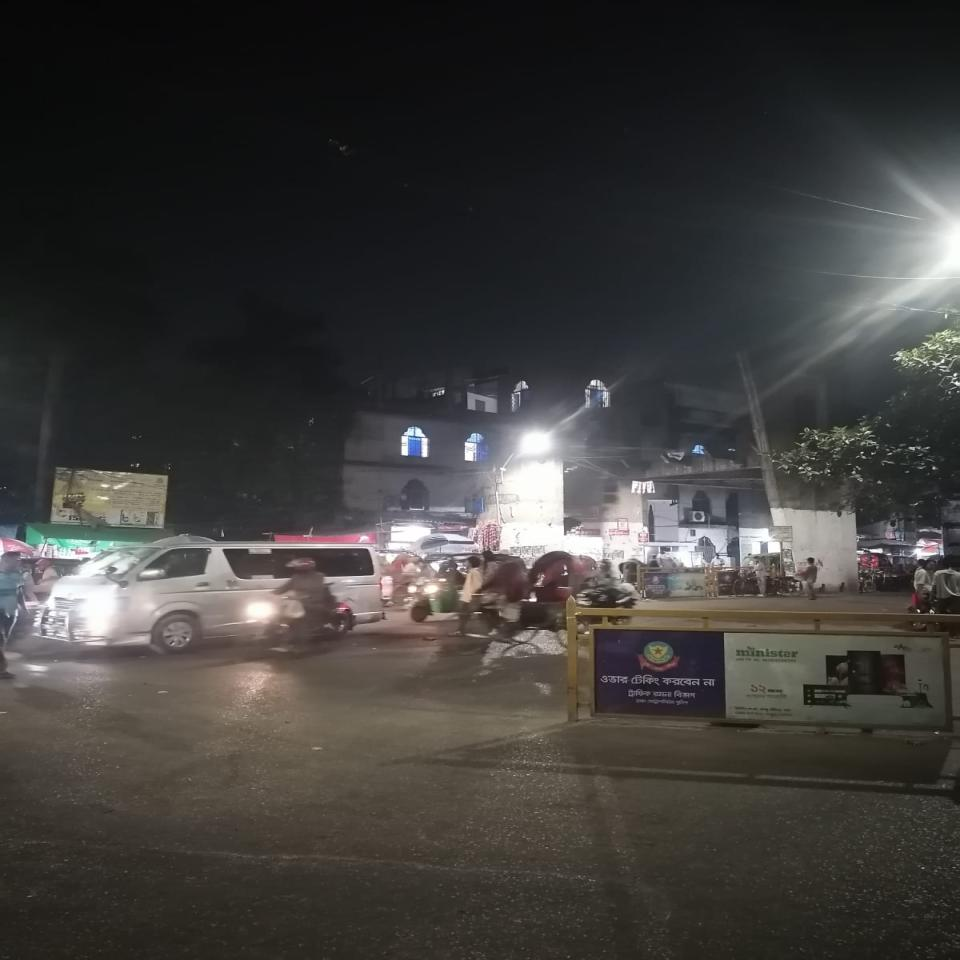person: (918, 556, 960, 618)
